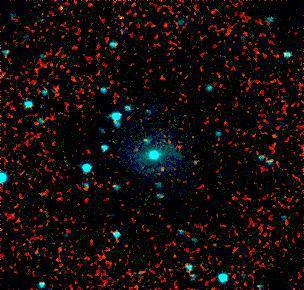star: (145, 153, 175, 183)
